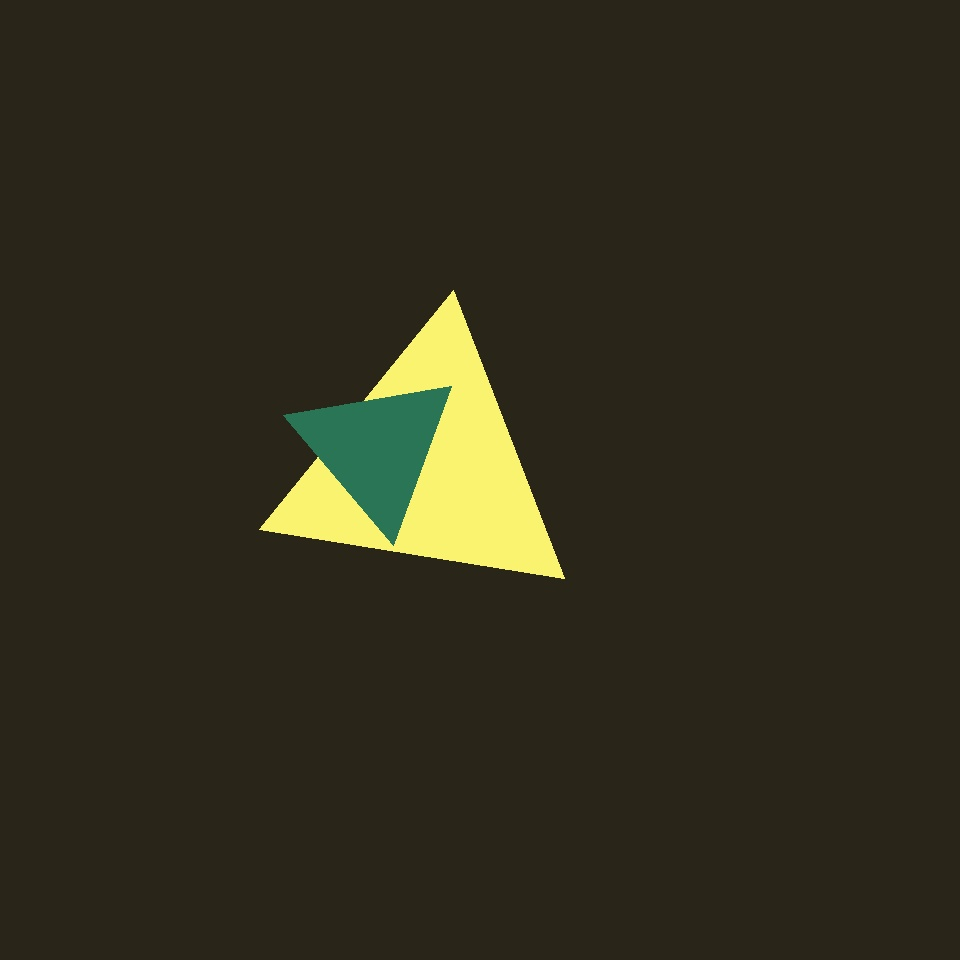circle: (274, 322, 578, 610), (292, 370, 460, 528)
